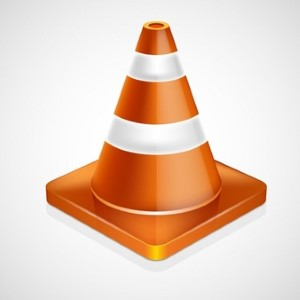traffic cone: (46, 20, 267, 261)
